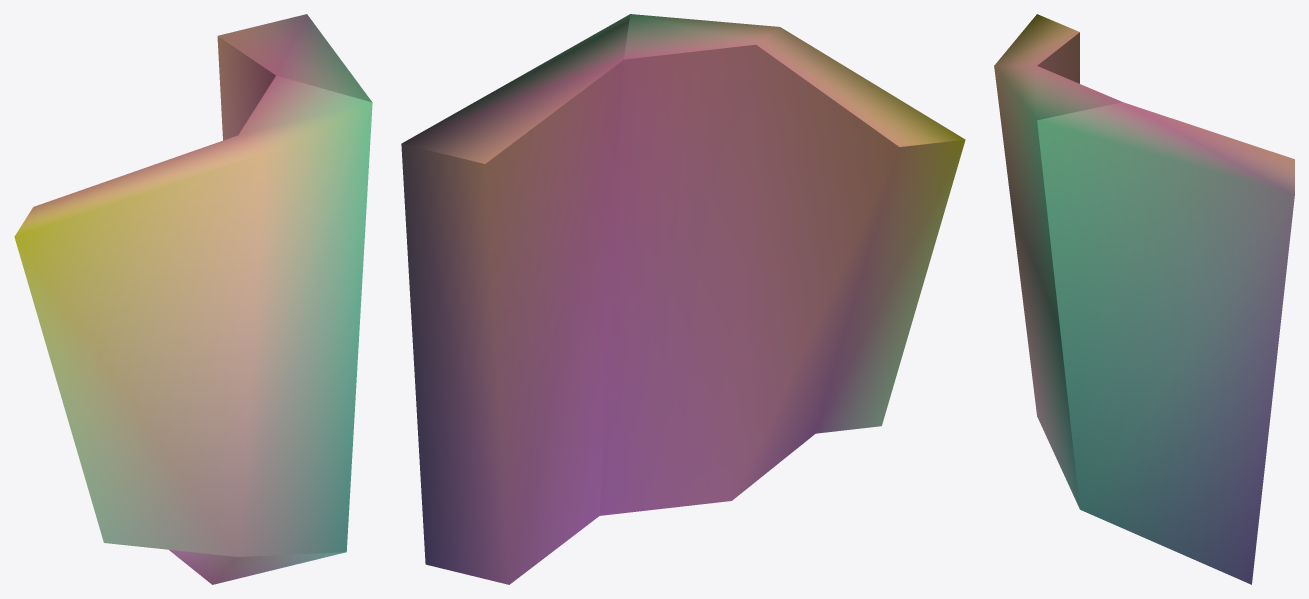
3 views of the same model, side by side, from view 1: azimuth 30°, elevation 25°; view 2: azimuth 150°, elevation 25°; view 3: azimuth 270°, elevation 25° (orthographic). The views are drawn at different scales.
Visible parts, largest first — view 1: part; view 2: part; view 3: part.
Boxes of the visible parts, x1,y1,x2,y2 form: part: (14, 14, 372, 584); part: (401, 14, 965, 584); part: (994, 14, 1294, 584).
Size of the model in its own units: 10 by 11 by 7.
